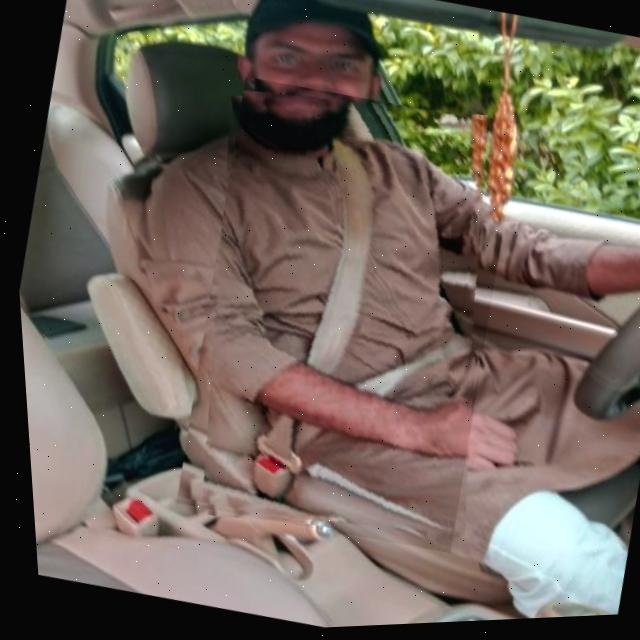seatbelt: (146, 68, 538, 565)
